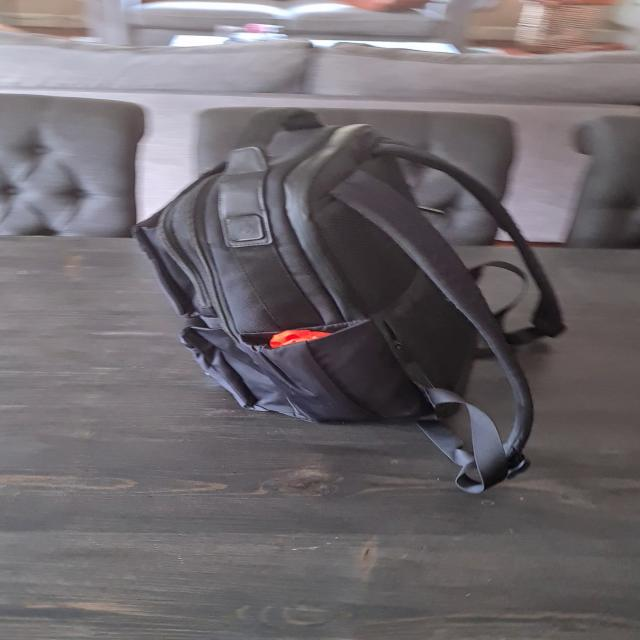backpack: (122, 102, 551, 438)
